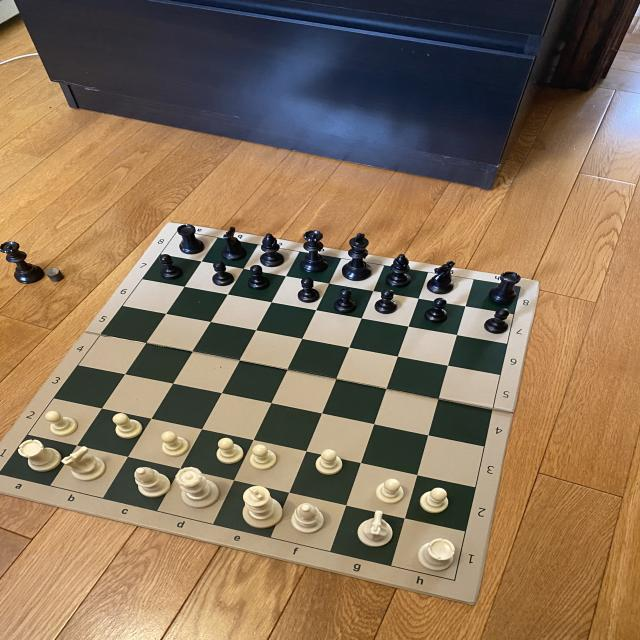Chessboard-Corners: (514, 282, 528, 292), (446, 576, 463, 584)
